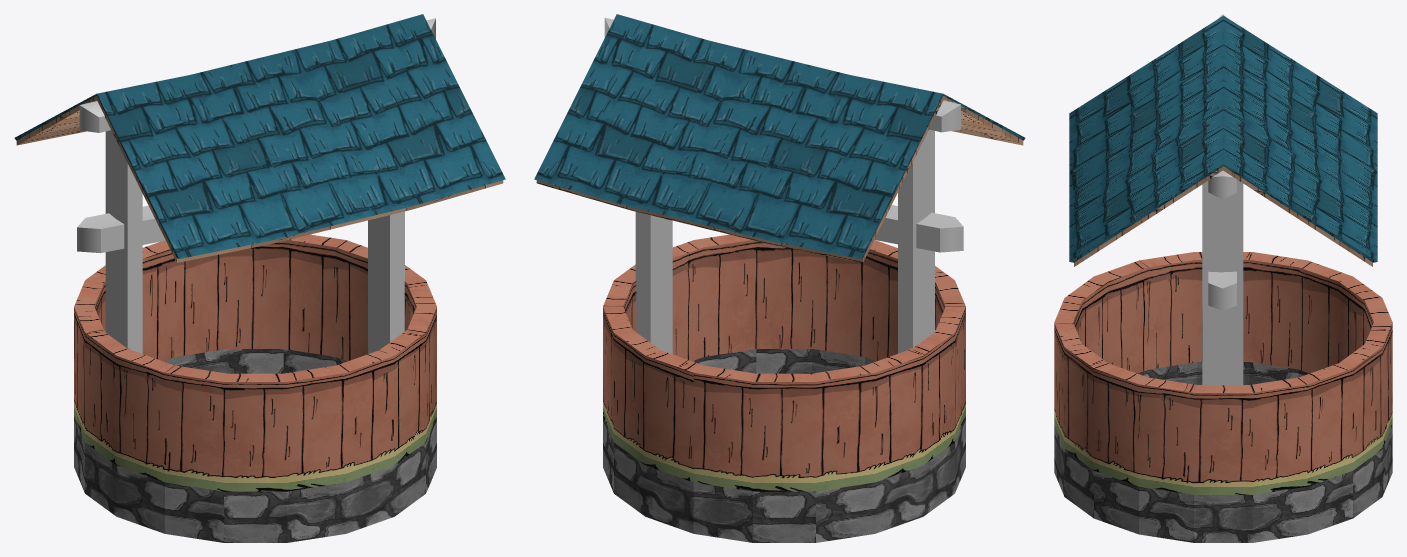
File: Well01.fbx
The picture shows the model from 3 angles, left to right: view 1: azimuth 30°, elevation 25°; view 2: azimuth 150°, elevation 25°; view 3: azimuth 270°, elevation 25°; orthographic projection. The views are drawn at different scales.
Parts seen in each view (by area): view 1: Well01; view 2: Well01; view 3: Well01.
Part boxes in pixels (x1=…): Well01: x1=14, y1=14, x2=505, y2=542; Well01: x1=534, y1=14, x2=1025, y2=542; Well01: x1=1054, y1=14, x2=1392, y2=542.
Bounding box in the file's own units: 514 × 565 × 450.
